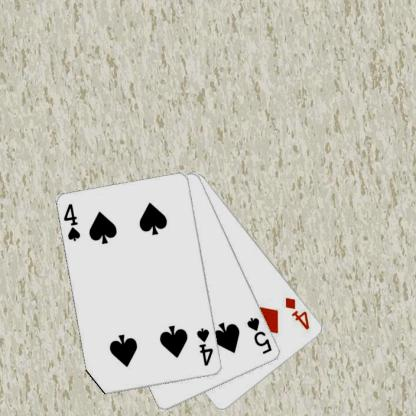4D: (282, 295, 312, 331)
4S: (194, 326, 214, 368), (62, 201, 82, 242)
5S: (244, 315, 274, 355)
